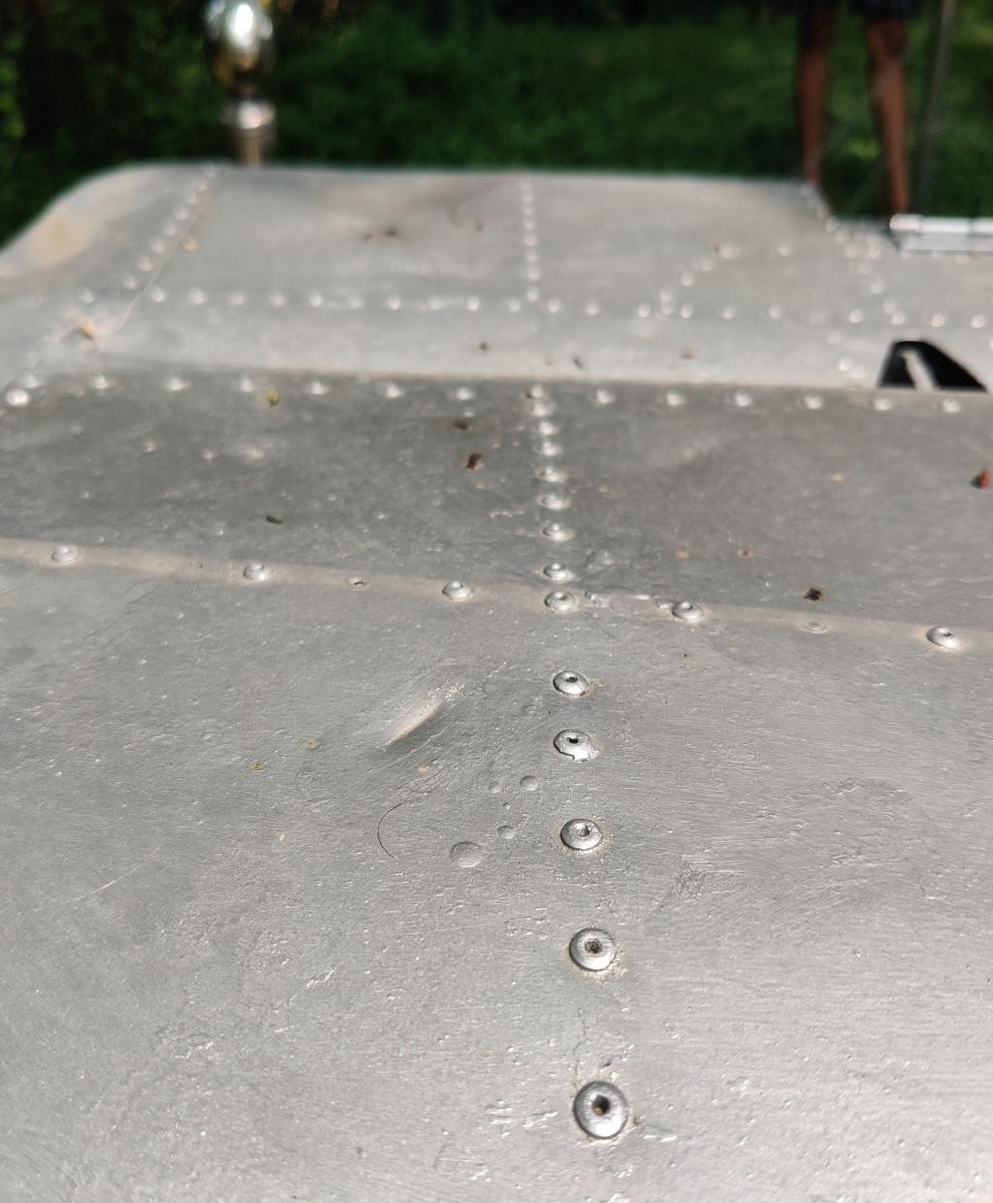dent: (331, 634, 496, 826)
